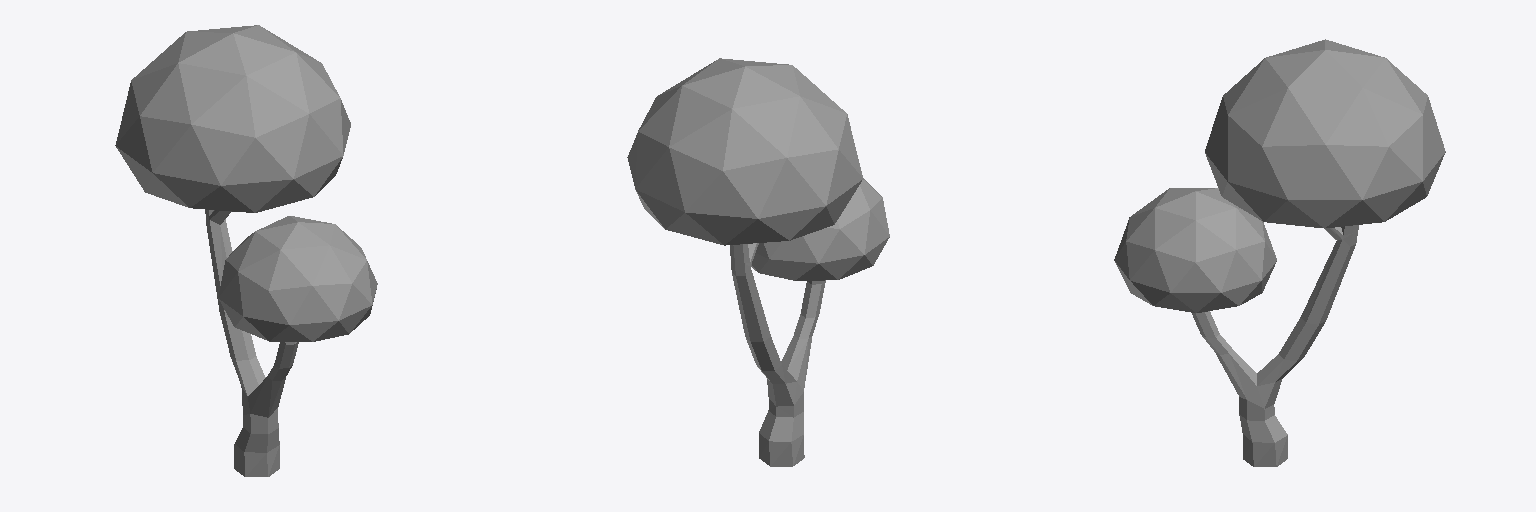
Rendered from Tree1.obj.
3 views of the same model, side by side, from view 1: azimuth 30°, elevation 25°; view 2: azimuth 150°, elevation 25°; view 3: azimuth 270°, elevation 25° (orthographic).
Visible parts, largest first — view 1: Icosphere.003; view 2: Icosphere.003; view 3: Icosphere.003.
Boxes of the visible parts, x1=… form: Icosphere.003: x1=115, y1=25, x2=377, y2=476; Icosphere.003: x1=627, y1=58, x2=889, y2=466; Icosphere.003: x1=1114, y1=39, x2=1445, y2=466.
Bounding box in the file's own units: 1.59 × 3.15 × 2.3.